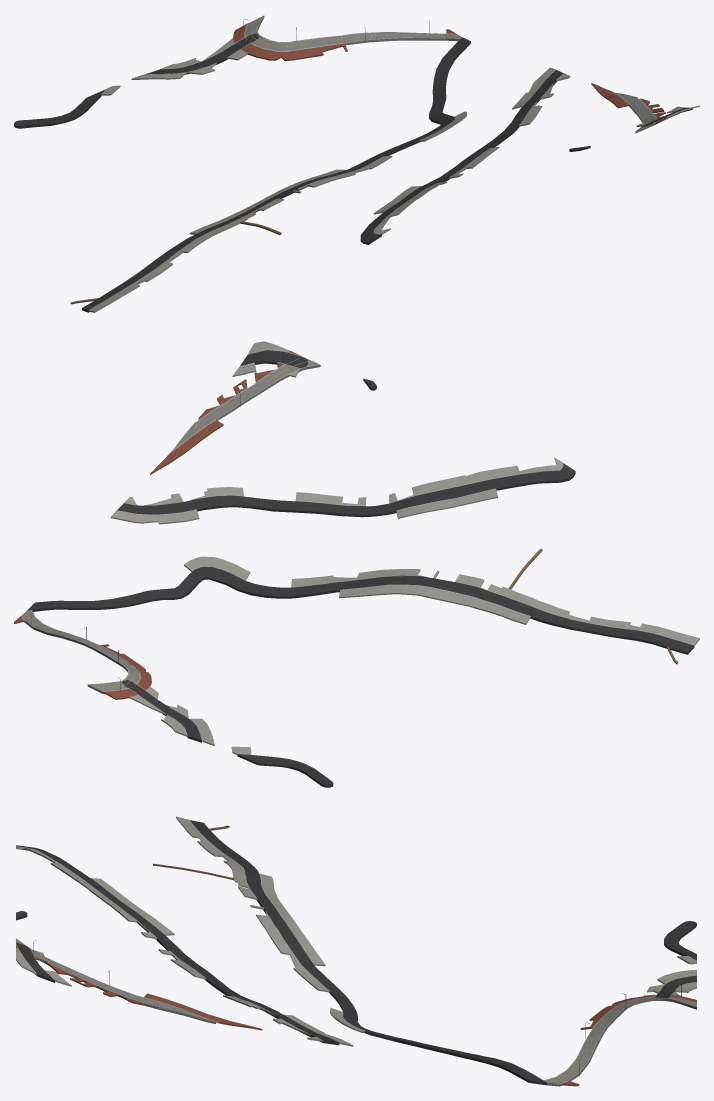
File: 17-109444-59454.f1efdcbb.glb
The picture shows the model from 3 angles, top to bottom: view 1: azimuth 30°, elevation 25°; view 2: azimuth 150°, elevation 25°; view 3: azimuth 270°, elevation 25°; orthographic projection. The views are drawn at different scales.
Size of the model in its own units: 295 by 80.19 by 294.
